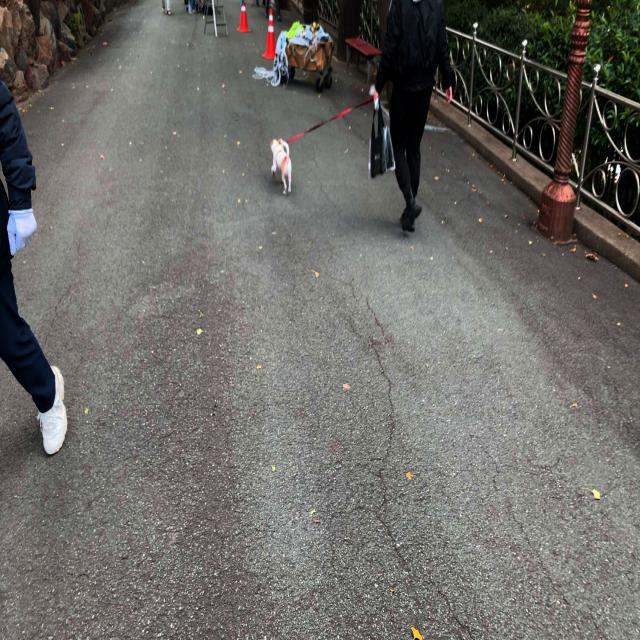Leashed_Dog: (270, 71, 408, 196)
